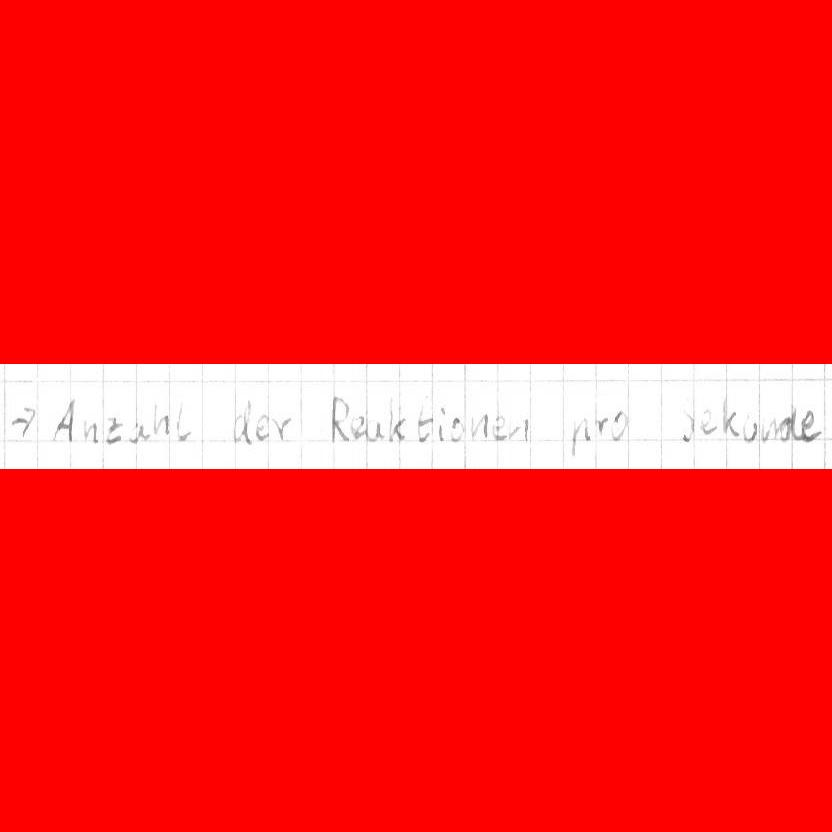Char: (49, 396, 79, 444), (8, 404, 41, 441), (231, 398, 254, 448), (328, 393, 350, 443), (797, 405, 824, 444), (385, 396, 407, 443), (416, 393, 435, 444), (504, 412, 533, 444), (568, 416, 590, 458), (720, 397, 739, 439), (678, 406, 699, 442), (775, 407, 797, 440), (151, 401, 172, 435), (610, 407, 631, 441), (175, 401, 191, 442), (469, 410, 489, 442), (80, 415, 100, 446), (104, 414, 123, 446), (489, 411, 508, 443), (740, 412, 759, 443), (363, 416, 384, 443), (253, 411, 271, 442), (126, 422, 150, 445), (270, 416, 293, 440), (699, 407, 716, 436), (348, 413, 366, 440), (449, 415, 466, 443), (436, 405, 448, 443), (593, 412, 609, 440), (761, 416, 775, 442)
